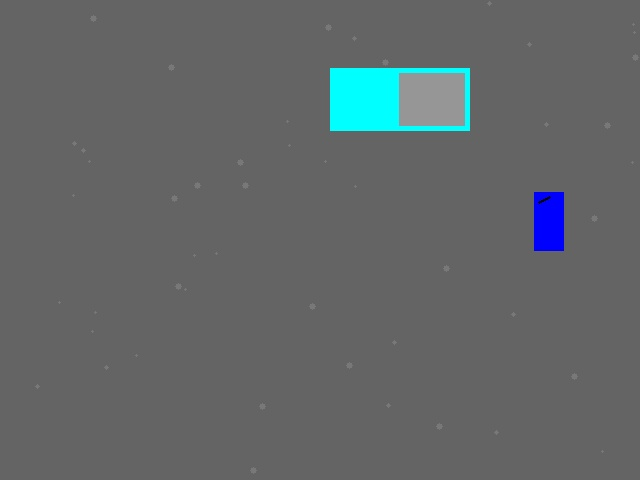motorcycle: (534, 192, 563, 250)
truck: (330, 68, 469, 130)
